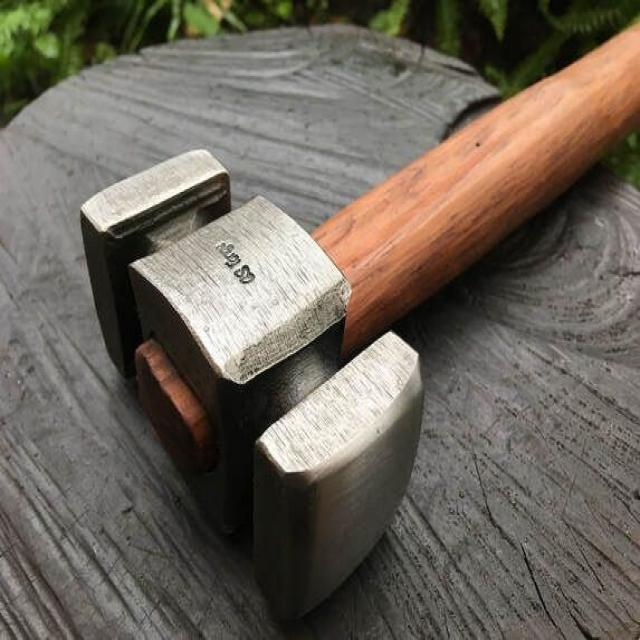hammer: (76, 0, 640, 630)
